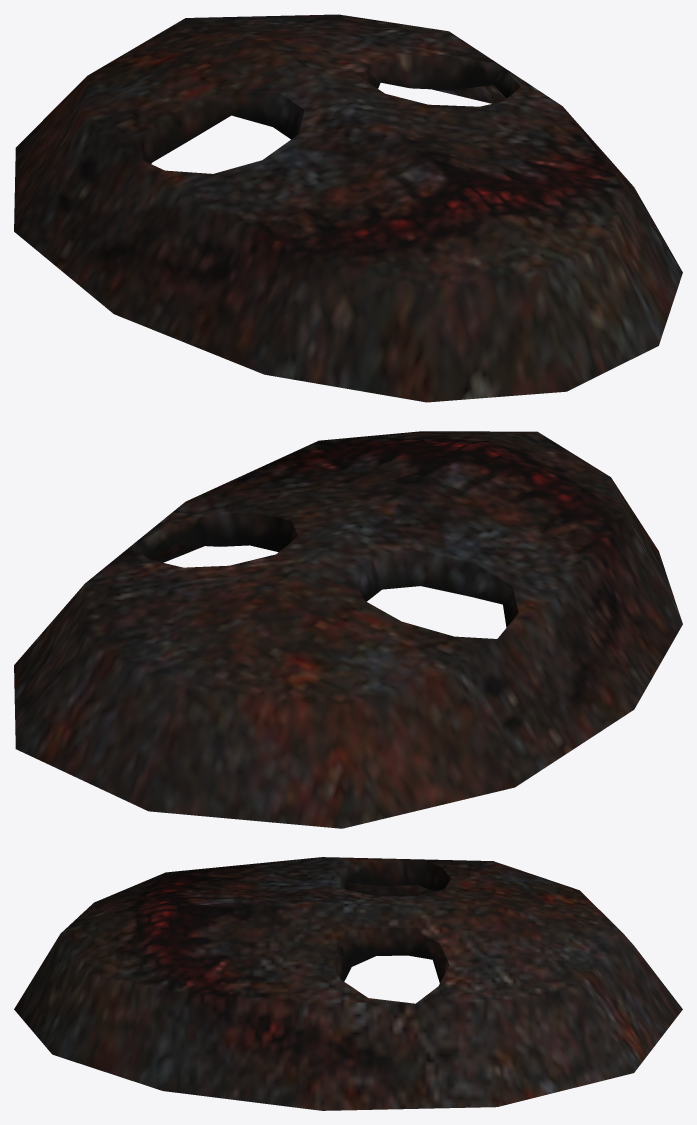
File: mask_mx_5.obj
3 views of the same model, one above another, from view 1: azimuth 30°, elevation 25°; view 2: azimuth 150°, elevation 25°; view 3: azimuth 270°, elevation 25° (orthographic). The views are drawn at different scales.
Parts seen in each view (by area): view 1: mask_mx_5; view 2: mask_mx_5; view 3: mask_mx_5.
Boxes of the visible parts, <box> form: mask_mx_5: <box>14,14,682,402</box>; mask_mx_5: <box>14,431,682,828</box>; mask_mx_5: <box>14,857,682,1110</box>.
Size of the model in its own units: 0.2297 by 0.0554 by 0.3198.
